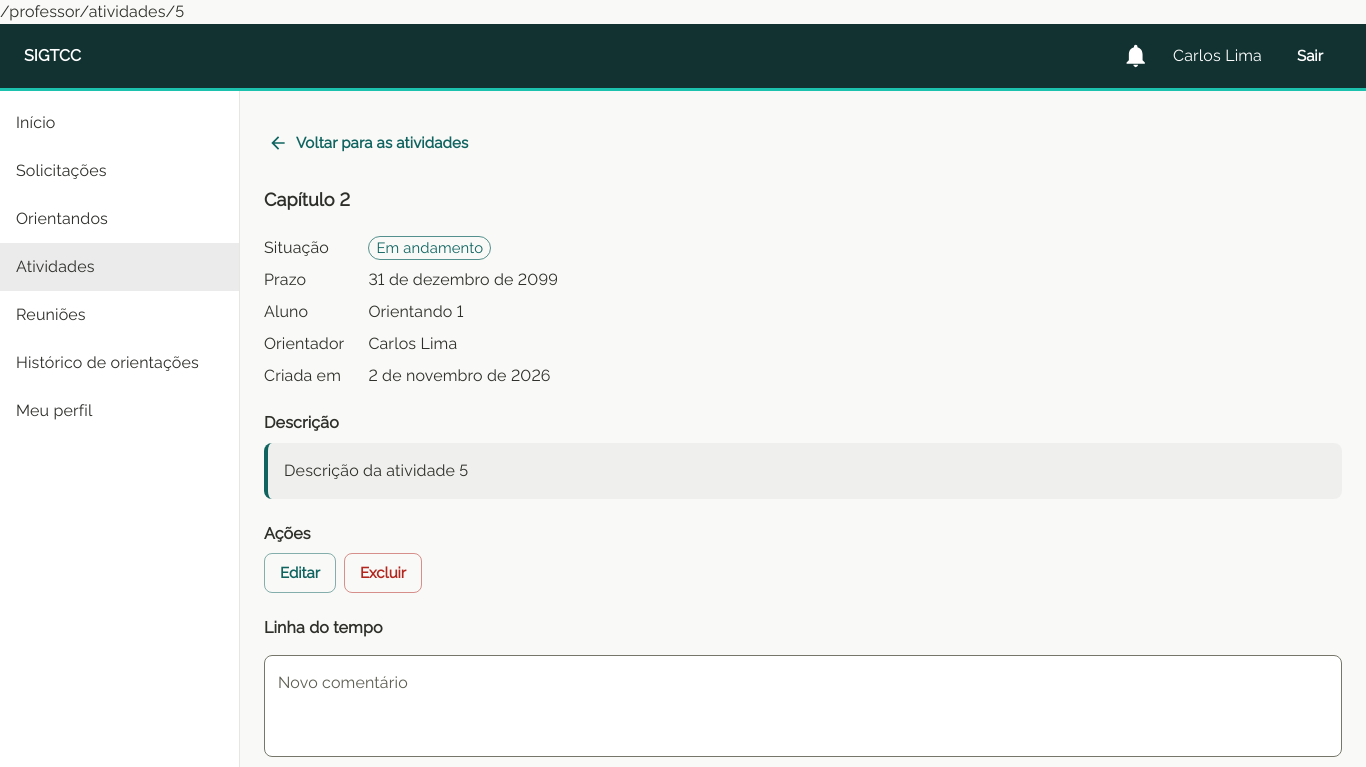
Excluir atividade: o resultado › exclui, avisa e volta à lista com a página e os filtros de antes, sem a atividade
The image size is (1366, 767).
Click the button "Excluir". click: (383,573)
box: [344,553,422,593]
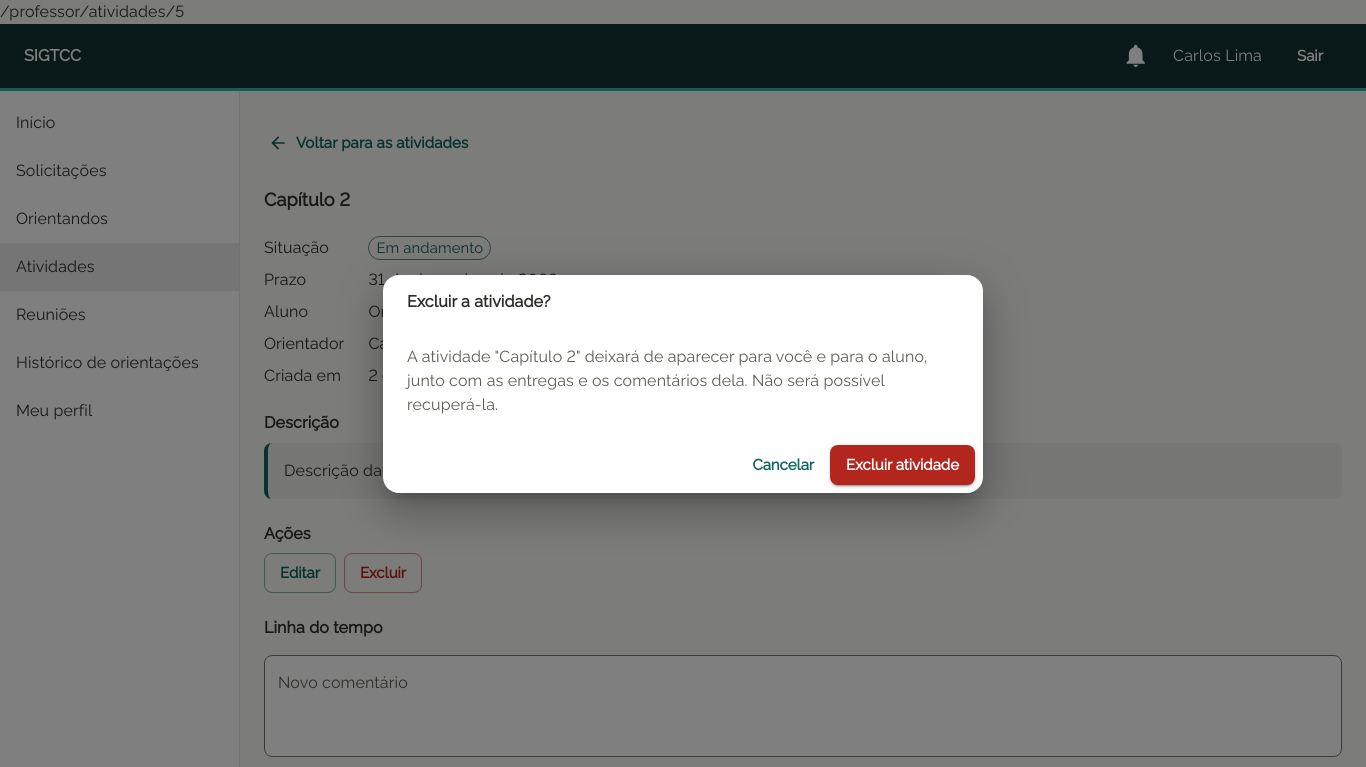
Click the button "Excluir atividade". click: (903,465)
box: [830,445,975,485]
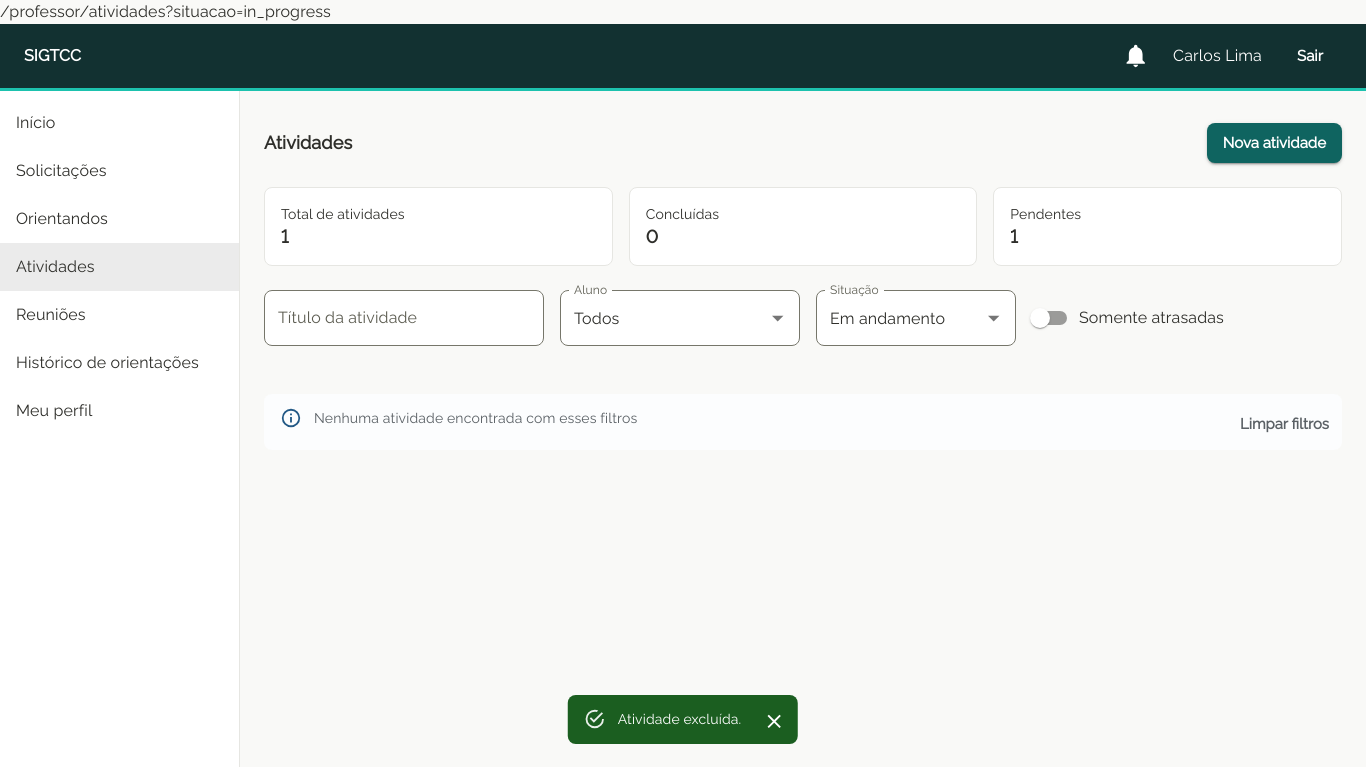
Expected: the text "Atividade excluída." is shown, [618,711,741,727]
Expected: the text with test id "location" reads "/professor/atividades?situacao=in_progress", [0,2,331,21]
Expected: the heading "Atividades" is shown, [264,130,352,156]
